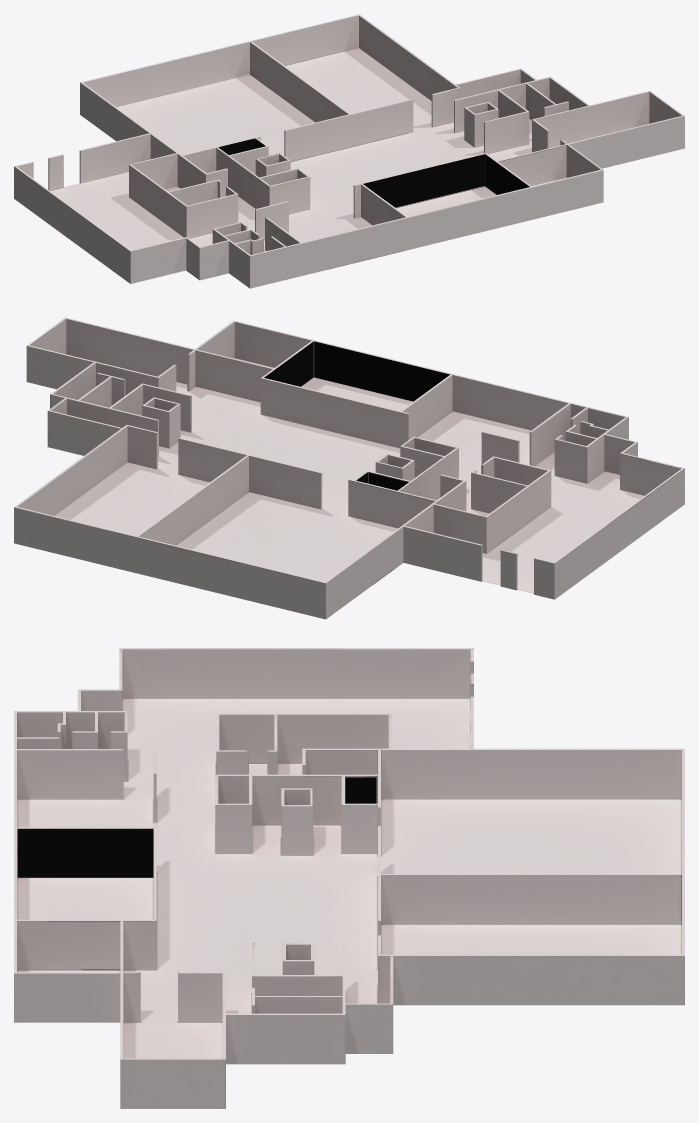
File: floor_1_bake.glb
3 views of the same model, one above another, from view 1: azimuth 30°, elevation 25°; view 2: azimuth 150°, elevation 25°; view 3: azimuth 270°, elevation 25° (orthographic). The views are drawn at different scales.
Parts seen in each view (by area): view 1: join; view 2: join; view 3: join.
Part boxes in pixels (<box>): join: <box>14,14,684,288</box>; join: <box>14,317,684,619</box>; join: <box>14,648,684,1108</box>.
Bounding box in the file's own units: 14.32 × 0.8012 × 9.86.
Materials: 1 (1 with a texture image).
